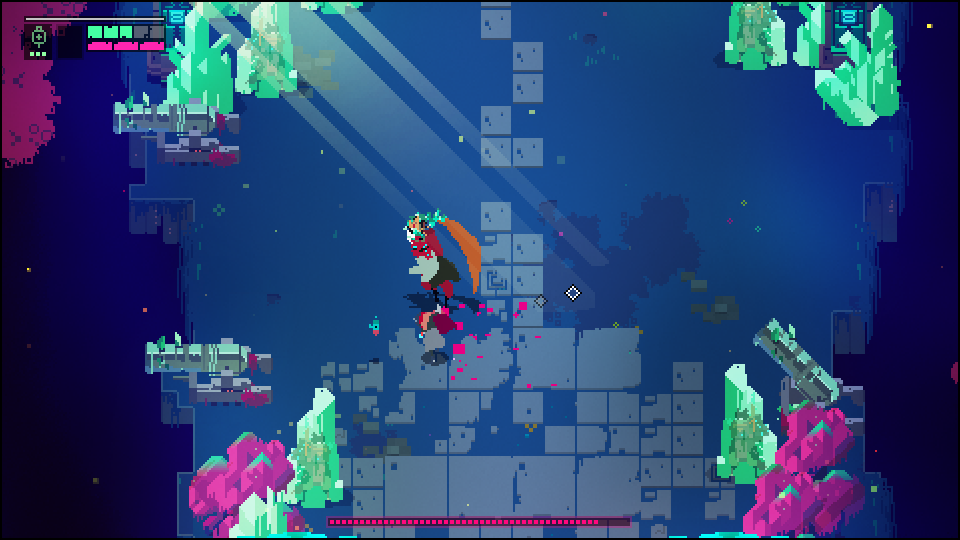hanged_man: (398, 211, 482, 303)
